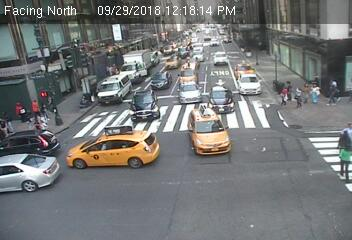car: (61, 128, 162, 167), (1, 154, 63, 195), (188, 104, 232, 155), (2, 128, 59, 156), (117, 50, 151, 79), (95, 76, 131, 103), (131, 89, 161, 121), (205, 87, 235, 114), (175, 80, 204, 104), (237, 71, 264, 95), (230, 61, 255, 76), (177, 67, 197, 84), (145, 46, 161, 64), (212, 52, 229, 66), (179, 57, 198, 69), (164, 56, 180, 69), (192, 47, 205, 63), (221, 32, 233, 44), (176, 45, 189, 56), (161, 44, 175, 53), (209, 38, 220, 47), (201, 33, 213, 41)
